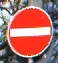No entry: (6, 6, 53, 58)
